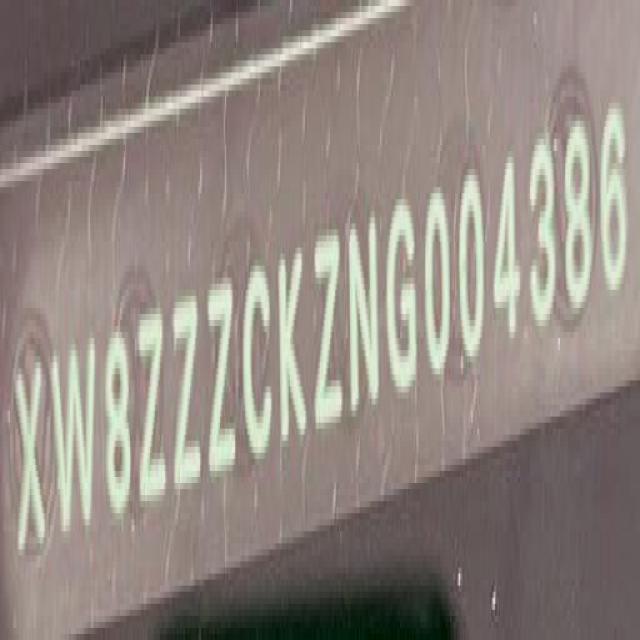0: (421, 178, 455, 388), (456, 163, 489, 371)
3: (526, 126, 561, 334)
4: (490, 146, 527, 356)
6: (598, 96, 634, 302)
8: (561, 107, 597, 319), (104, 323, 136, 528)
C: (241, 252, 277, 468)
G: (387, 186, 423, 404)
K: (276, 237, 309, 453)
N: (344, 198, 386, 424)
W: (48, 336, 100, 550)
X: (14, 344, 48, 570)
Z: (312, 220, 346, 442), (173, 285, 208, 499), (206, 276, 240, 484), (138, 301, 171, 513)
